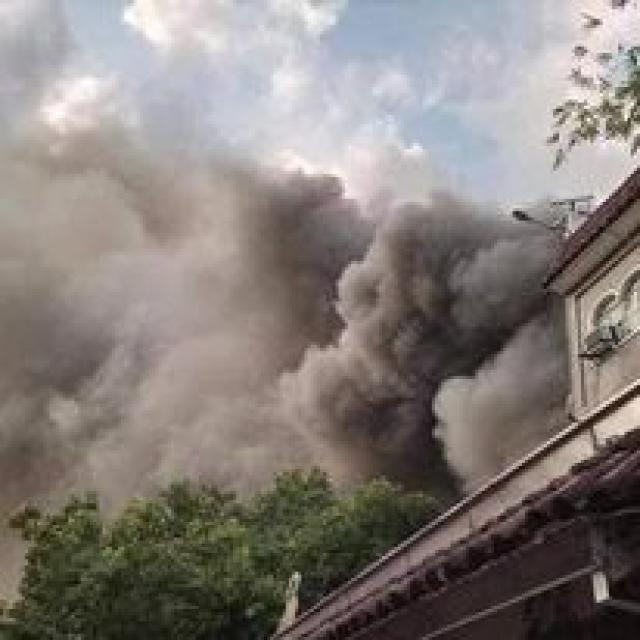Smoke: (0, 163, 573, 526)
